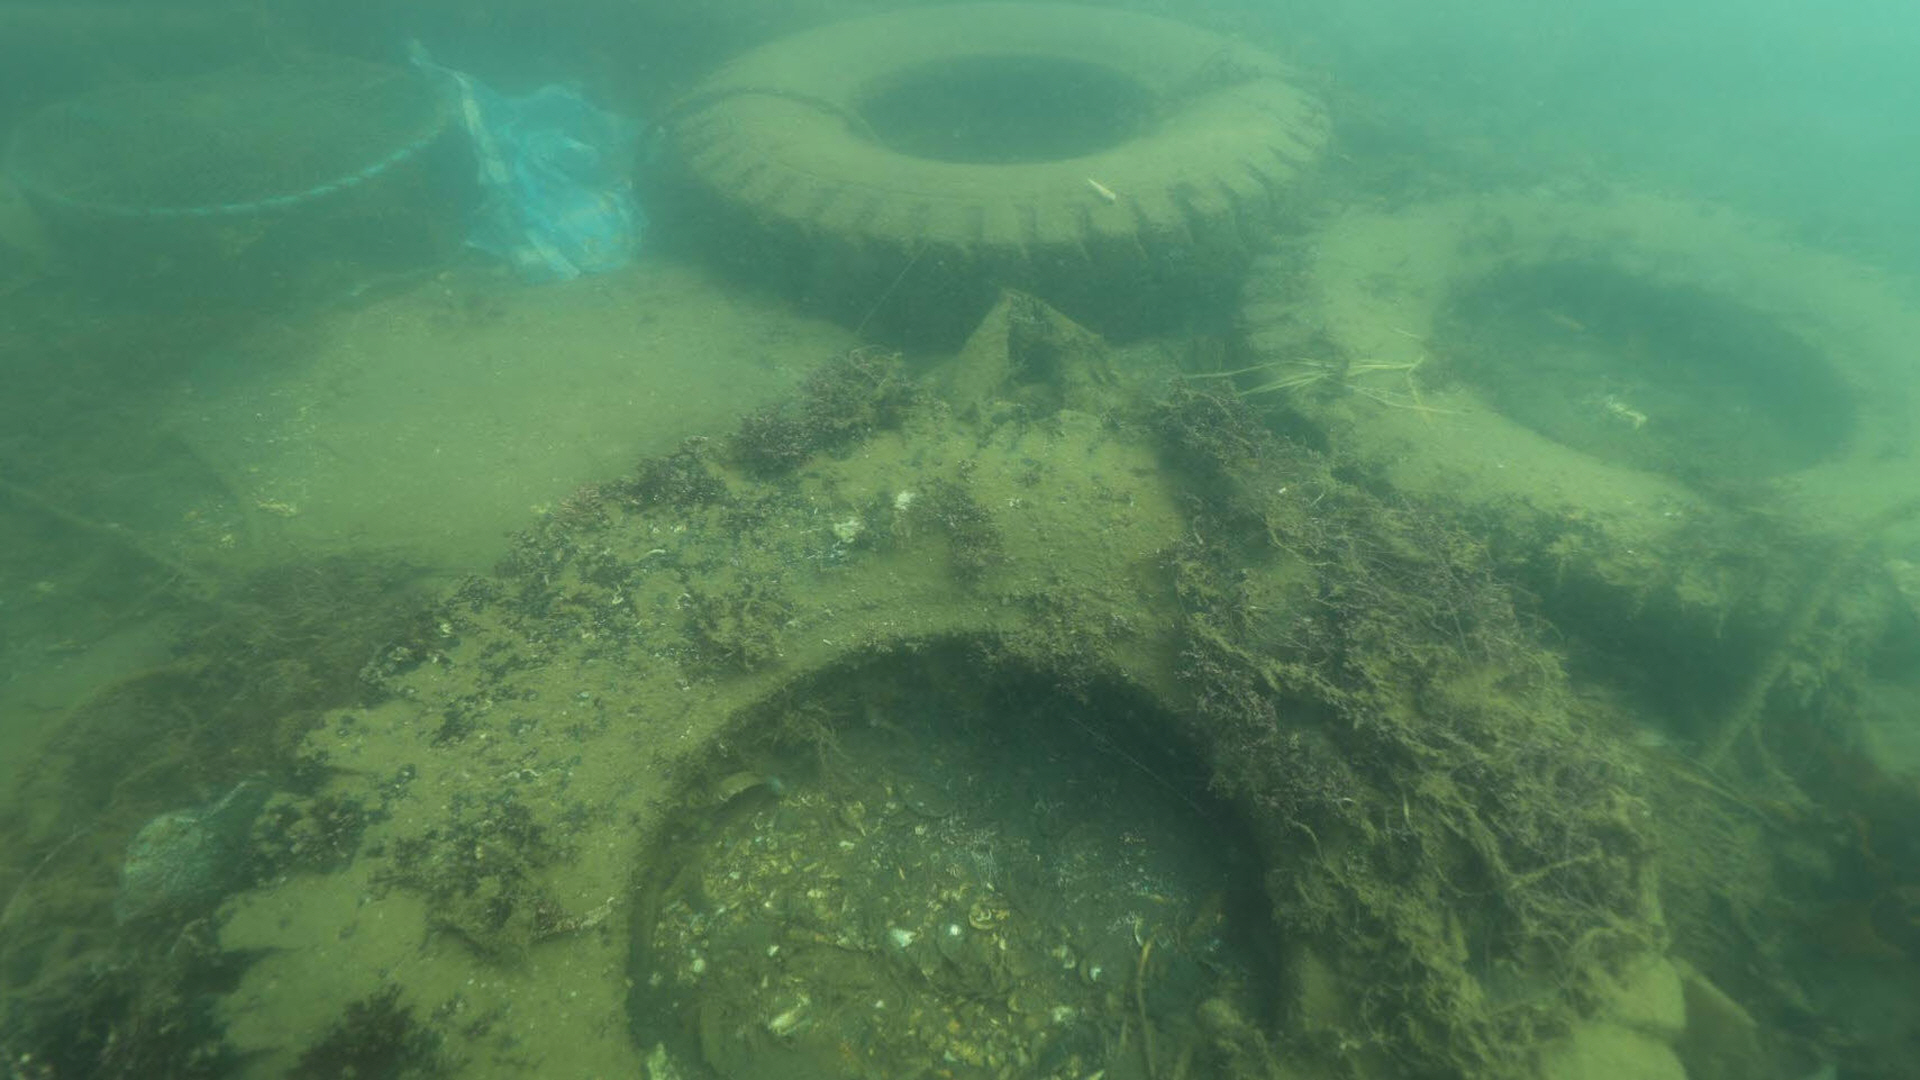circular fish trap: (0, 50, 480, 331)
tire: (212, 397, 1687, 1080), (1236, 183, 1920, 695), (642, 0, 1337, 345)
